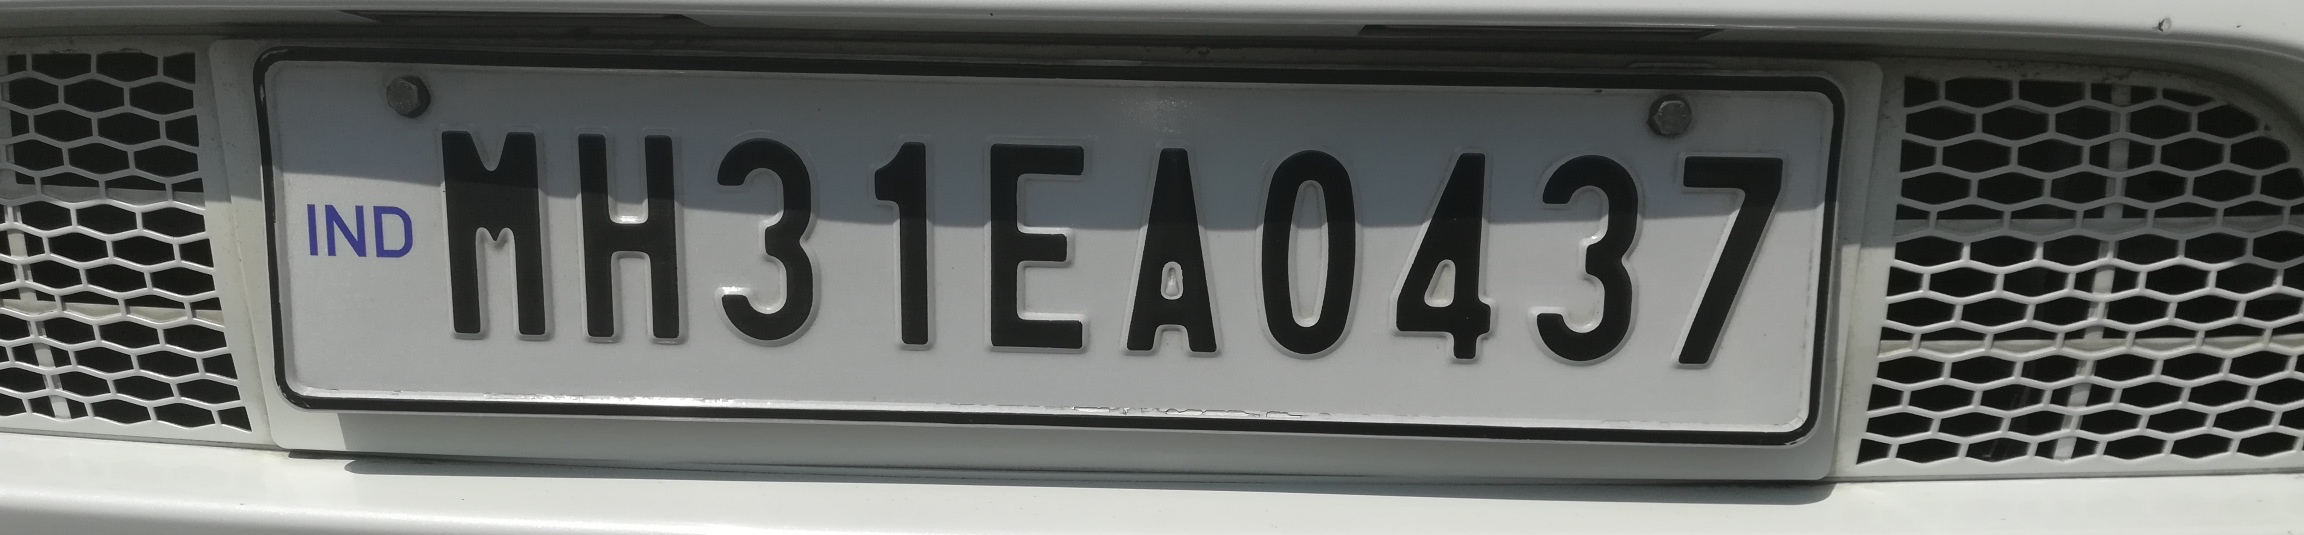numberplate: (229, 41, 1852, 447)
